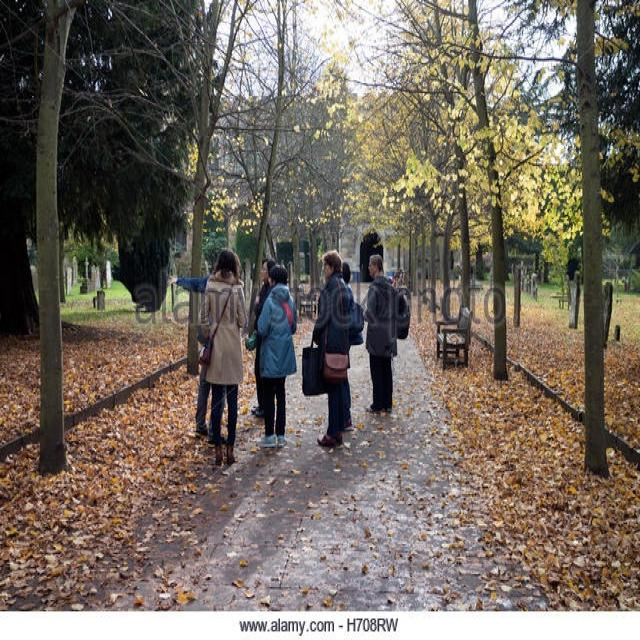body: (166, 248, 242, 444), (195, 248, 250, 471), (361, 252, 412, 417), (311, 248, 352, 451), (254, 263, 298, 451), (243, 255, 276, 422), (339, 259, 370, 325), (385, 262, 410, 302)
